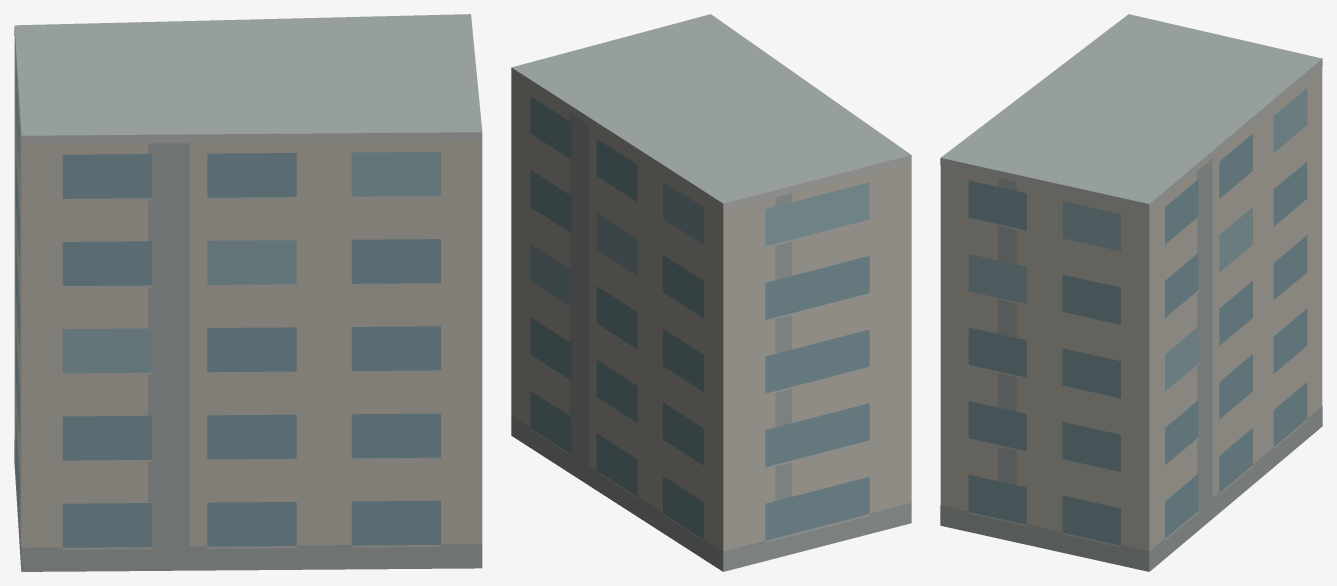
File: survey-upis-32727045.glb
3 renders of one model, left to right at view 1: azimuth 30°, elevation 25°; view 2: azimuth 150°, elevation 25°; view 3: azimuth 270°, elevation 25°, orthographic. The views are drawn at different scales.
Visible parts, largest first — view 1: survey-upis-32727045.tmp; view 2: survey-upis-32727045.tmp; view 3: survey-upis-32727045.tmp.
Part boxes in pixels (<box>): survey-upis-32727045.tmp: <box>14,14,482,571</box>; survey-upis-32727045.tmp: <box>511,14,911,571</box>; survey-upis-32727045.tmp: <box>940,14,1322,571</box>.
Bounding box in the file's own units: 13.47 × 12.15 × 11.45.
